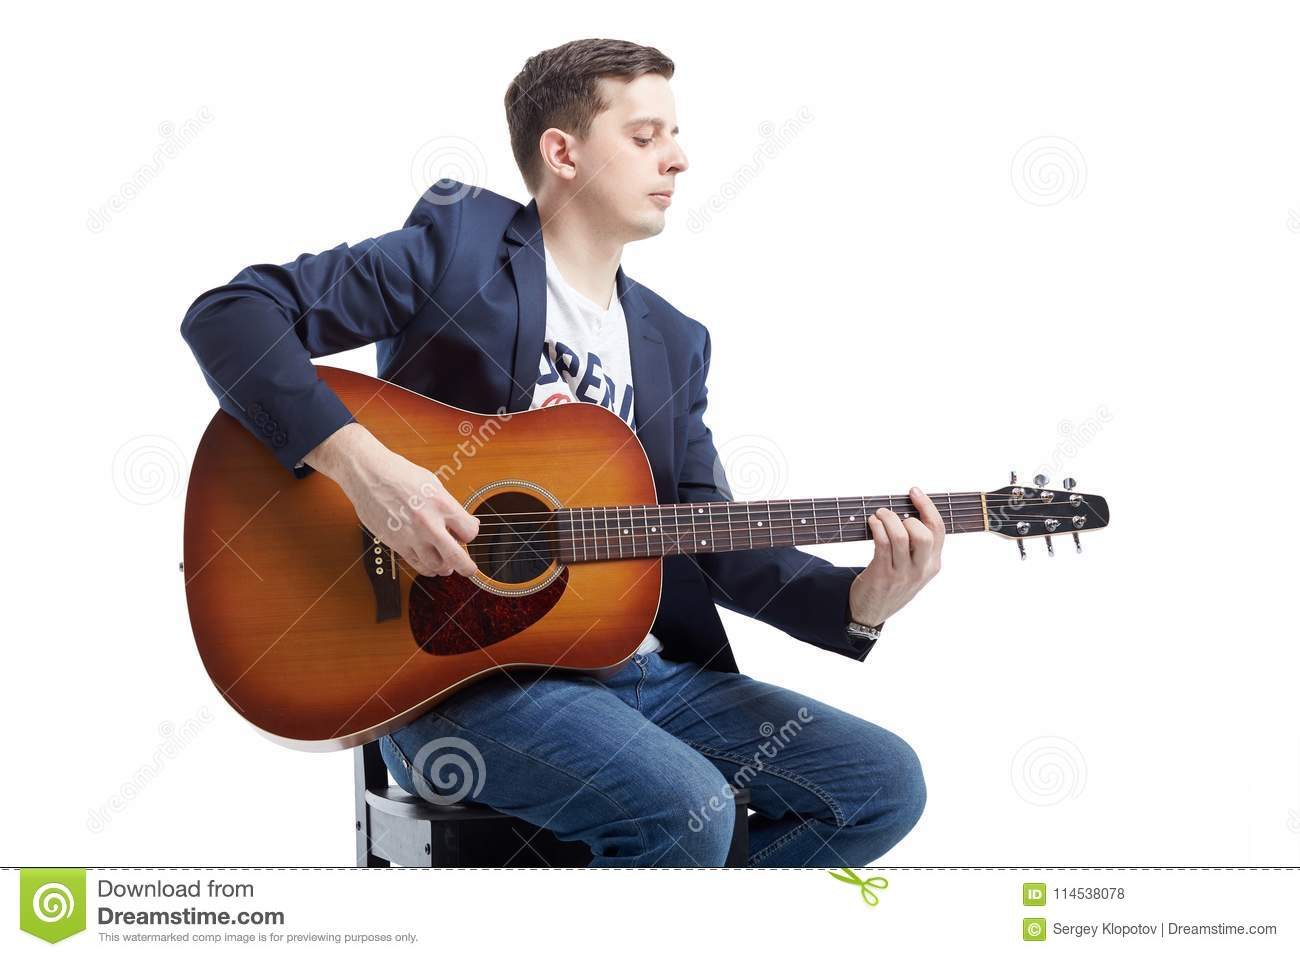fretboard: (557, 492, 984, 565)
